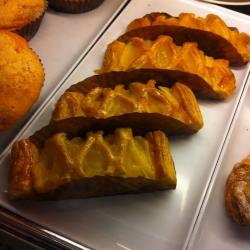apple_pie: (8, 131, 182, 197), (100, 38, 242, 104), (51, 84, 210, 138)
bread: (217, 154, 250, 229)
